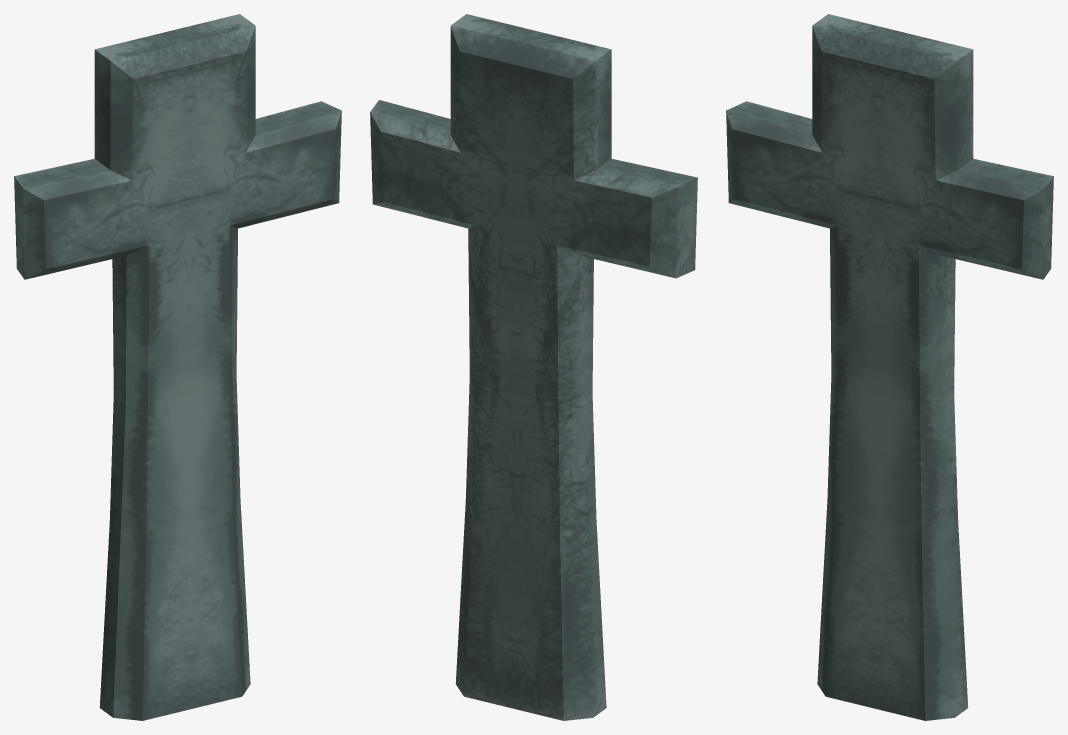
The model's file is tombstone_01.fbx.
3 renders of one model, left to right at view 1: azimuth 30°, elevation 25°; view 2: azimuth 150°, elevation 25°; view 3: azimuth 330°, elevation 25°, orthographic.
Visible parts, largest first — view 1: tombstone_01; view 2: tombstone_01; view 3: tombstone_01.
Boxes of the visible parts, x1=… form: tombstone_01: x1=14, y1=14, x2=341, y2=720; tombstone_01: x1=370, y1=14, x2=697, y2=720; tombstone_01: x1=726, y1=14, x2=1053, y2=720.
Bounding box in the file's own units: 4.13 × 8.15 × 0.7767.
Materials: 1 (1 with a texture image).
